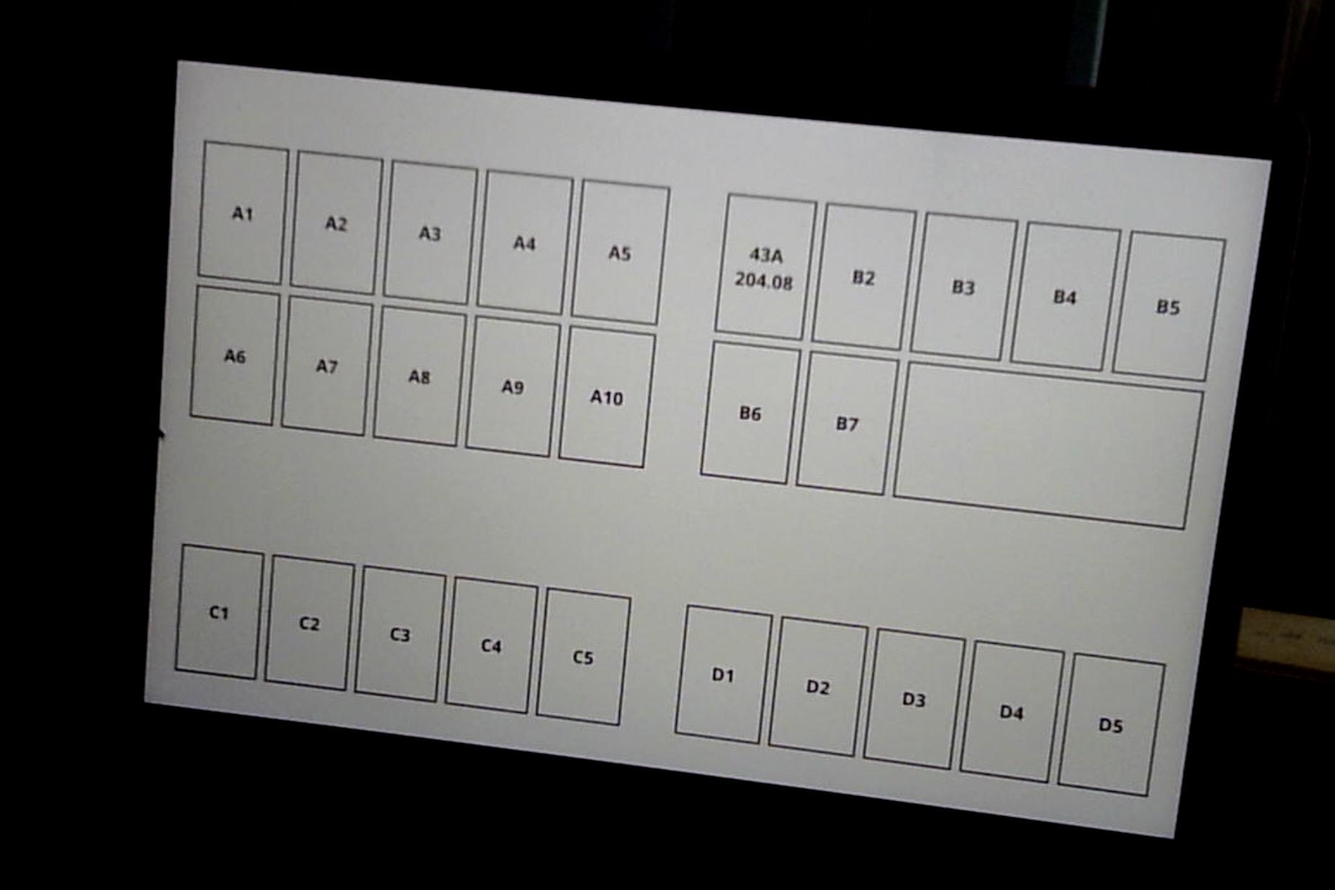parking space: (1113, 232, 1224, 380), (1012, 222, 1120, 369), (912, 213, 1015, 358), (1059, 653, 1164, 795), (814, 204, 915, 347), (716, 194, 814, 340), (962, 642, 1063, 782), (797, 352, 896, 494), (864, 629, 964, 768), (573, 180, 668, 323), (701, 343, 798, 483), (479, 170, 571, 315), (770, 617, 866, 755), (560, 327, 654, 467), (676, 605, 772, 742), (386, 161, 476, 303), (292, 152, 381, 293), (539, 588, 630, 724), (468, 317, 557, 456), (282, 296, 371, 434), (199, 143, 287, 282), (374, 307, 463, 444), (447, 577, 536, 712), (356, 566, 444, 701), (192, 287, 277, 424), (266, 557, 353, 690), (176, 547, 262, 679), (211, 604, 227, 619)
